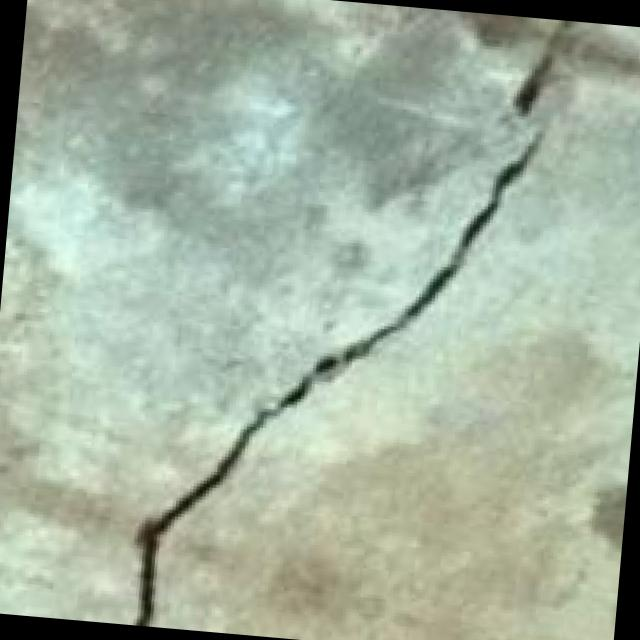crack: (85, 0, 619, 640)
